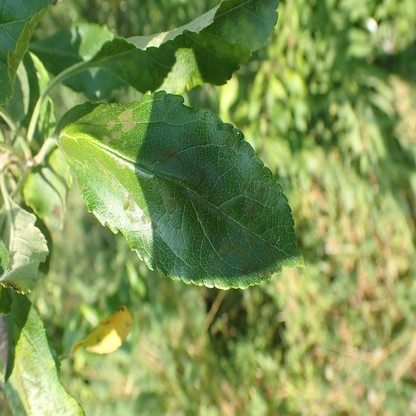scab: (95, 107, 279, 284), (8, 321, 65, 416), (192, 14, 264, 61), (117, 51, 154, 83)
